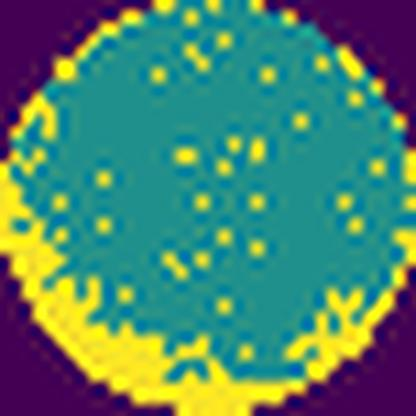Edge-Loc: (0, 158, 310, 416)
